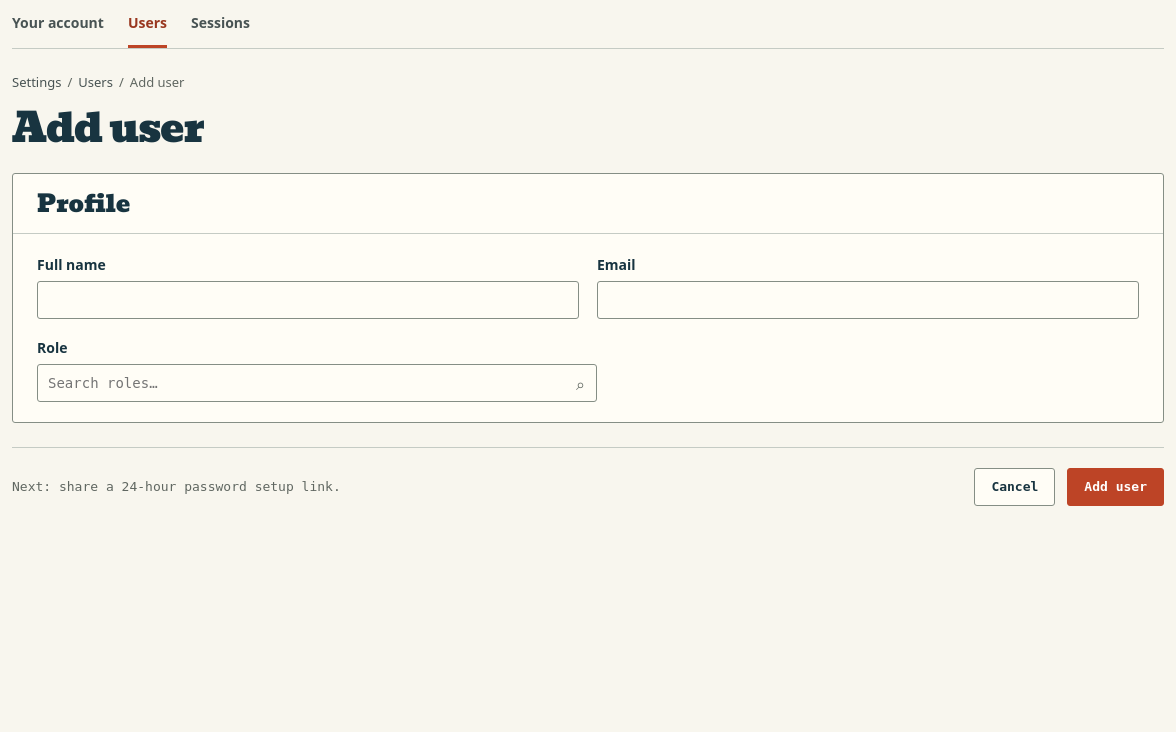
Test: filters role names without matching the permission descriptions
The image size is (1176, 732).
In the dropdown labelled "Role": (317, 383) [37,364,597,402], type "view"
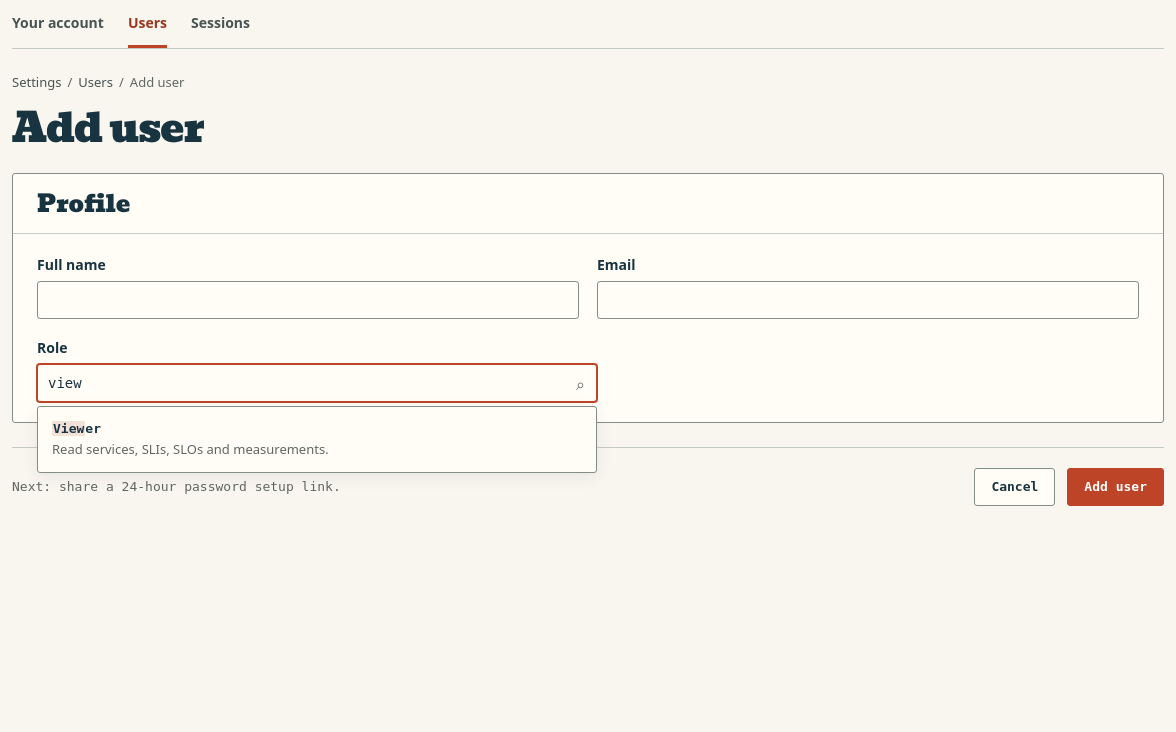
Now the number of options is 1, box [52,421,329,458]
Now the option shows "Viewer", box [52,421,329,458]
Press Arrowdown Enter
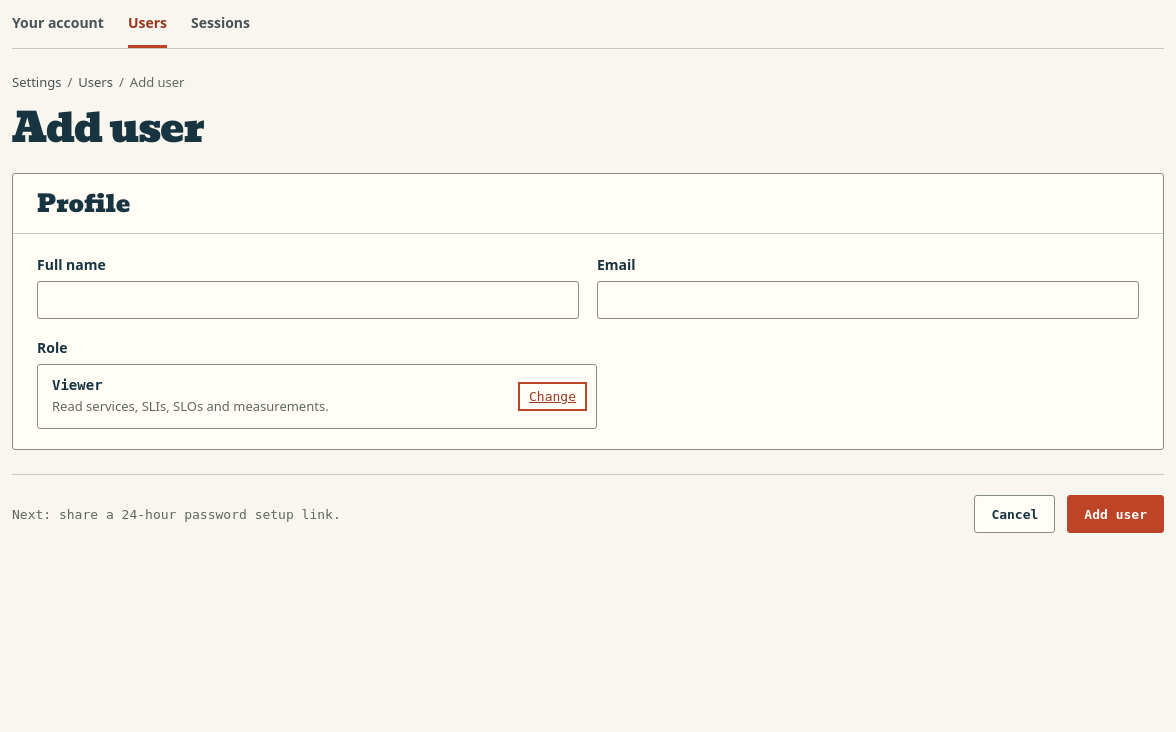
Now the button "Change" is shown, box [523,387,582,406]
